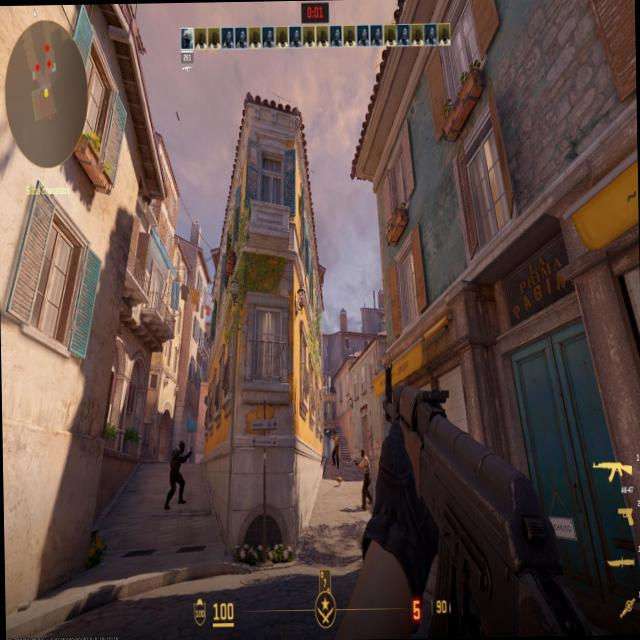CT: (170, 438, 182, 503)
CT_heat: (175, 442, 180, 460)
T: (329, 429, 338, 466), (361, 450, 368, 494)
T_heat: (362, 456, 367, 466), (335, 431, 337, 443)
